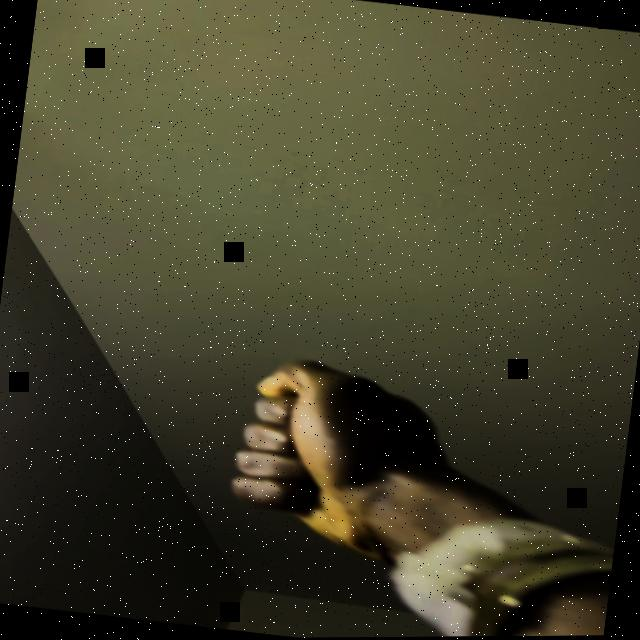Rock: (219, 350, 458, 566)
